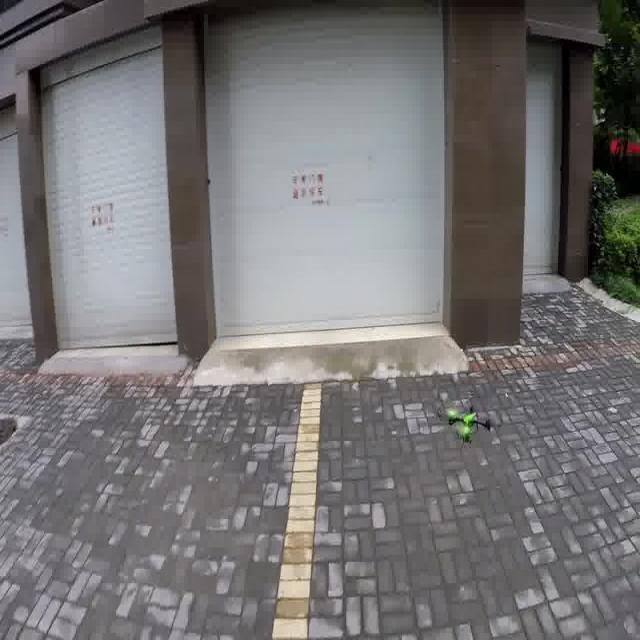drone: (437, 388, 505, 446)
